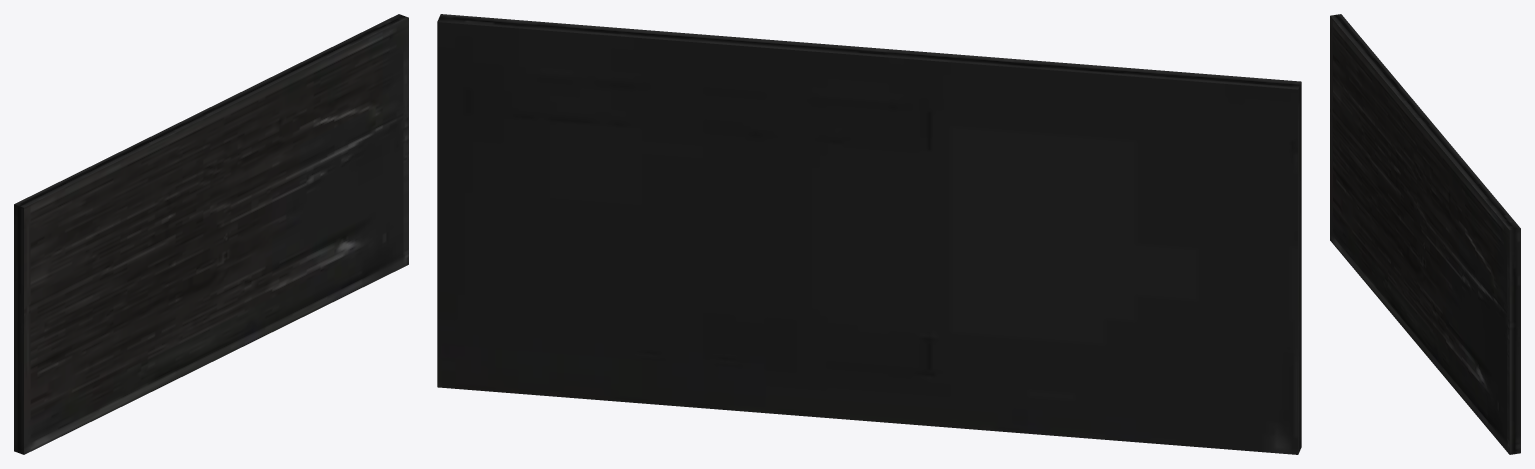
Rendered from backrest__back_board.glb.
3 views of the same model, side by side, from view 1: azimuth 30°, elevation 25°; view 2: azimuth 150°, elevation 25°; view 3: azimuth 270°, elevation 25° (orthographic). The views are drawn at different scales.
Parts seen in each view (by area): view 1: world; view 2: world; view 3: world.
Part boxes in pixels (box(x1,y1,x2,y2)): world: box(14, 14, 408, 454); world: box(437, 14, 1301, 454); world: box(1330, 14, 1520, 454).
Size of the model in its own units: 0.5986 by 0.29 by 0.2233.
Materials: 1 (1 with a texture image).
